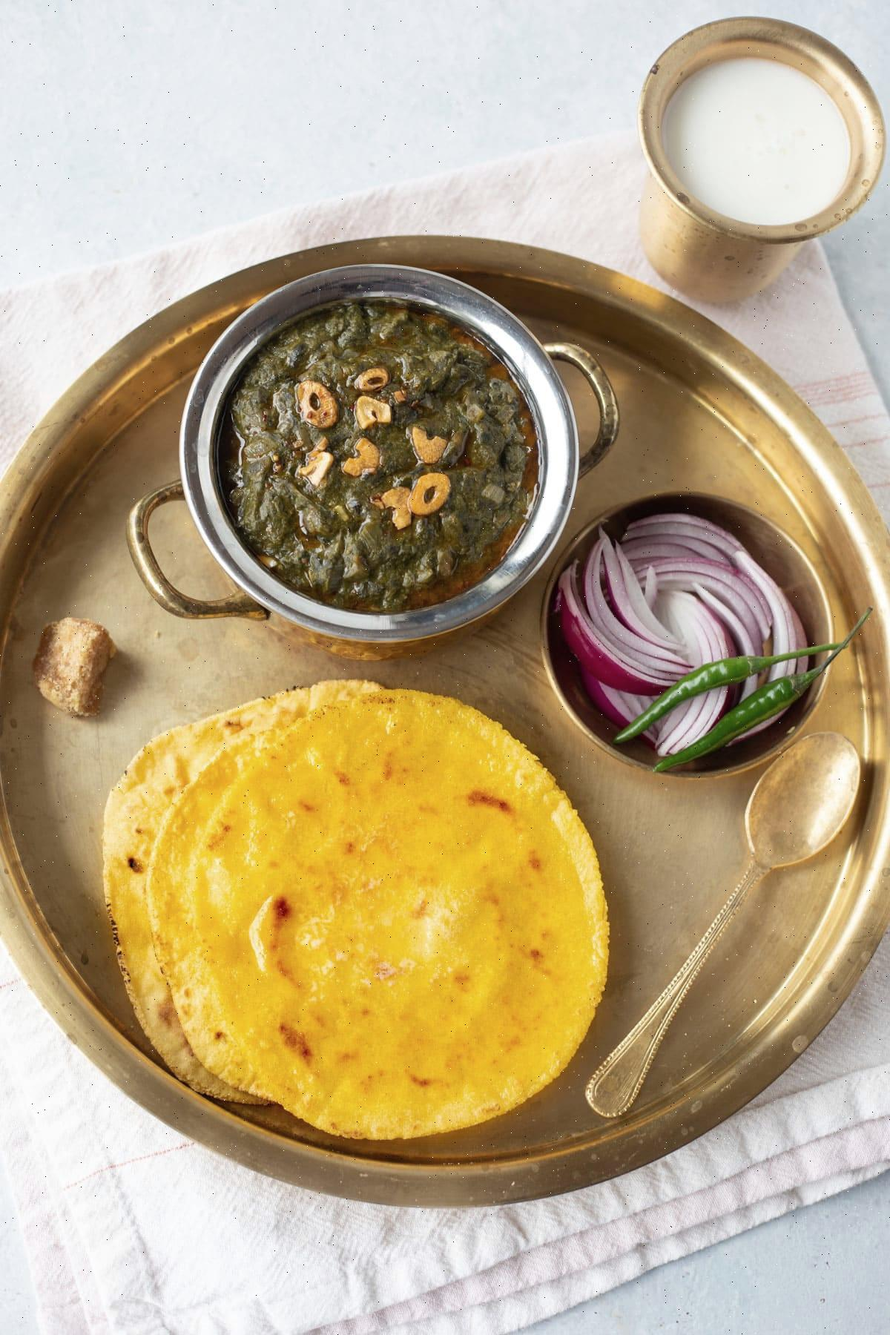saag: (218, 292, 546, 618)
